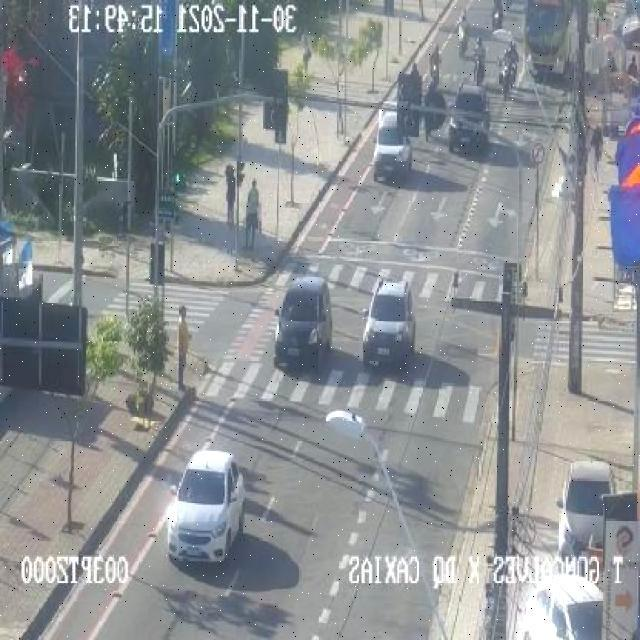Car: (168, 449, 245, 563), (356, 277, 426, 372), (273, 276, 333, 371), (515, 575, 604, 639), (557, 462, 616, 554), (373, 106, 415, 182), (447, 83, 490, 153)
